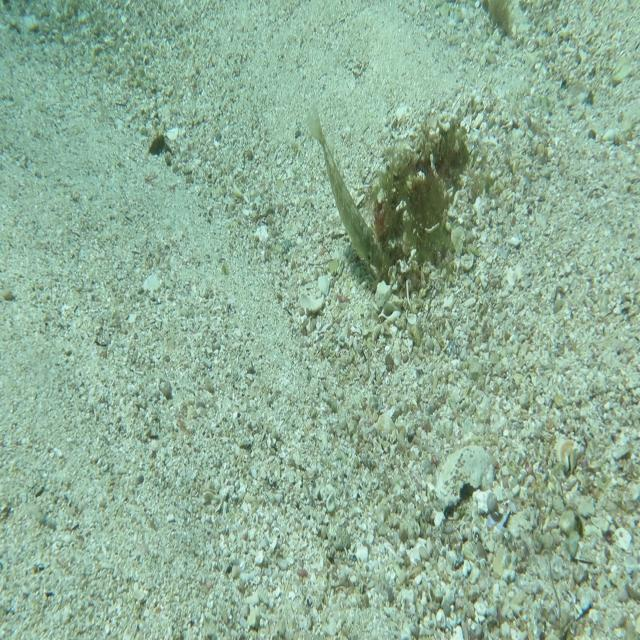NIP_IN: (302, 101, 384, 272)
core_nest: (432, 133, 467, 169)
nest: (364, 104, 480, 290)
vegetation: (482, 0, 519, 46), (150, 134, 169, 161)
